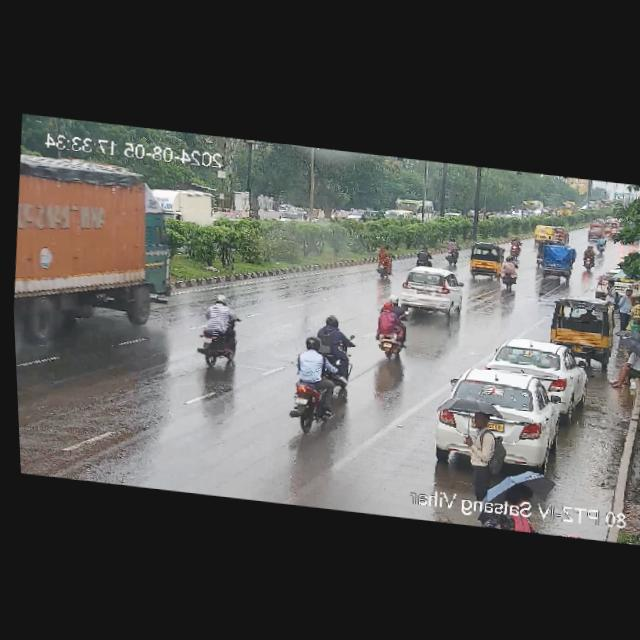bus: (394, 195, 435, 223)
car: (426, 363, 567, 471), (485, 335, 587, 401), (543, 293, 614, 355), (391, 264, 468, 318), (532, 240, 581, 279), (468, 239, 504, 279), (532, 223, 572, 243), (585, 224, 598, 241)
motorcycle: (282, 335, 342, 432), (193, 290, 249, 368), (318, 313, 357, 381), (367, 303, 407, 358), (616, 286, 636, 329), (373, 244, 396, 279), (498, 254, 517, 289), (444, 237, 462, 266), (415, 242, 433, 270), (507, 236, 522, 257)
person: (458, 410, 508, 487), (615, 328, 640, 388), (609, 354, 640, 393), (602, 275, 619, 302), (582, 243, 596, 273), (596, 234, 606, 254)
truck: (7, 153, 178, 328)
